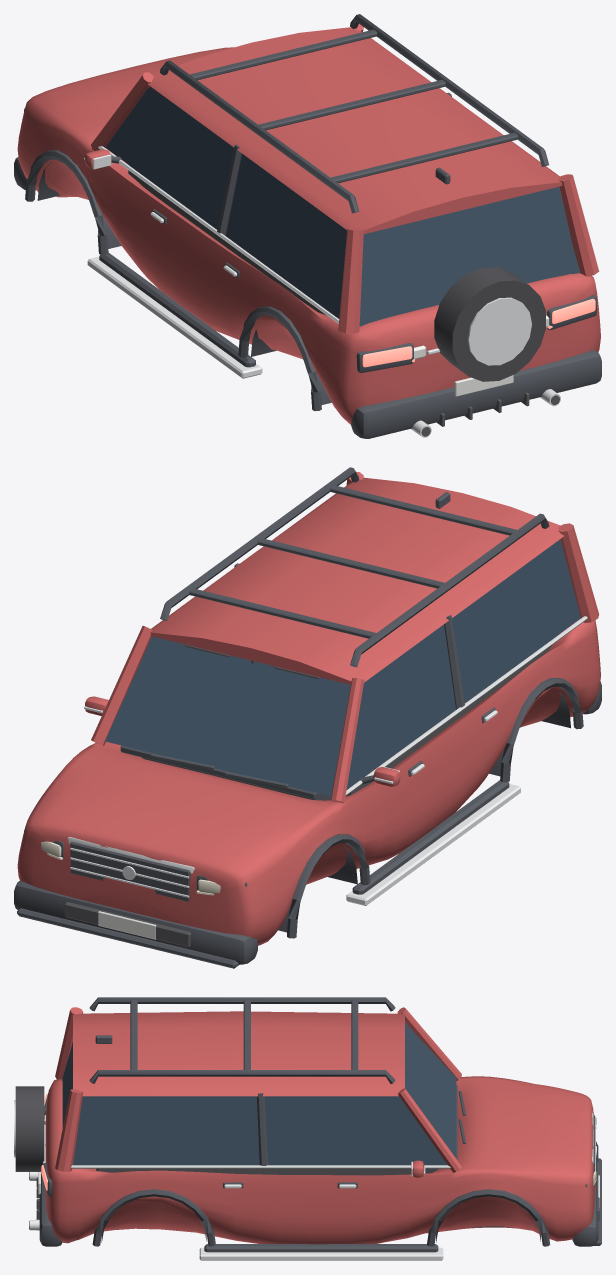
The model's file is Car_SUV.fbx.
3 views of the same model, one above another, from view 1: azimuth 30°, elevation 25°; view 2: azimuth 150°, elevation 25°; view 3: azimuth 270°, elevation 25° (orthographic). The views are drawn at different scales.
Parts seen in each view (by area): view 1: Car_SUV, Car_Taillights; view 2: Car_SUV; view 3: Car_SUV.
Boxes of the visible parts, x1=… form: Car_SUV: x1=14, y1=14, x2=601, y2=438; Car_Taillights: x1=362, y1=298, x2=595, y2=367; Car_SUV: x1=14, y1=467, x2=601, y2=968; Car_SUV: x1=14, y1=997, x2=601, y2=1260.
Size of the model in its own units: 2.37 by 1.6 by 4.92.
